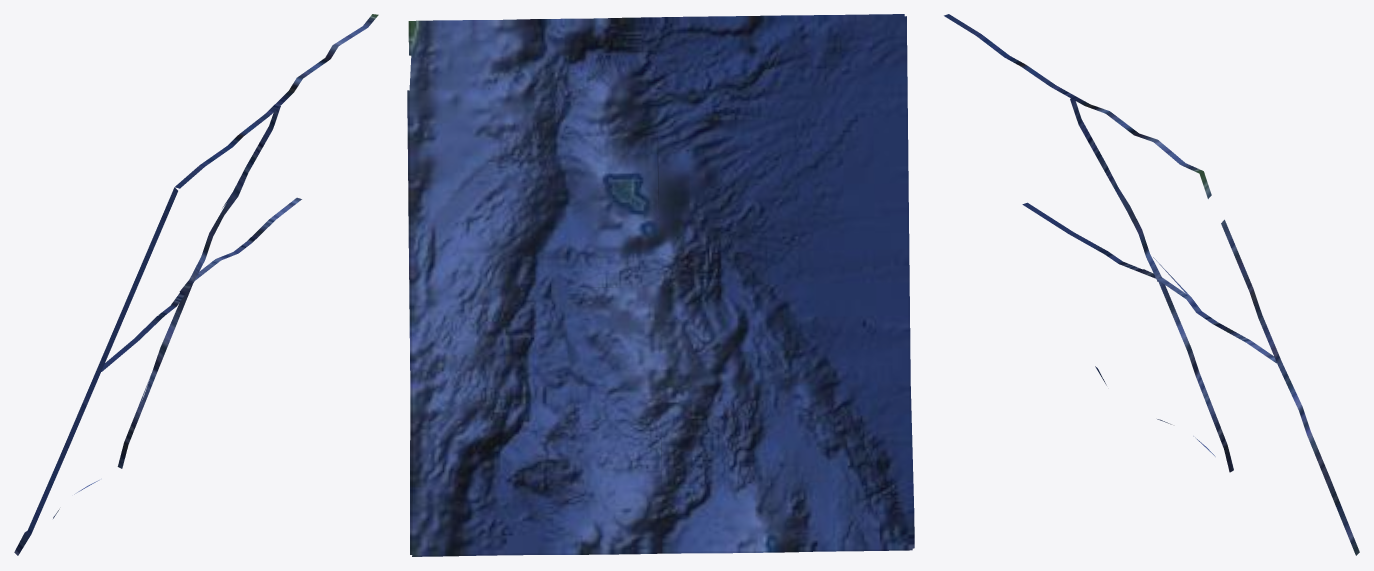
3 renders of one model, left to right at view 1: azimuth 30°, elevation 25°; view 2: azimuth 150°, elevation 25°; view 3: azimuth 270°, elevation 25°, orthographic. The views are drawn at different scales.
Size of the model in its own units: 154377 by 147990 by 131180.
Materials: 1 (1 with a texture image).
